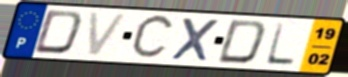C: (128, 12, 177, 62)
D: (214, 18, 269, 66), (31, 8, 86, 56)
L: (263, 21, 298, 67)
V: (86, 10, 131, 58)
X: (168, 16, 222, 63)
